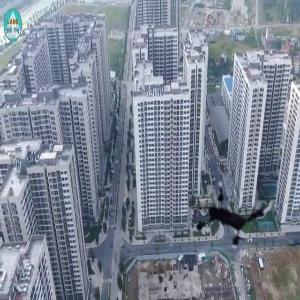drone: (177, 158, 282, 263)
